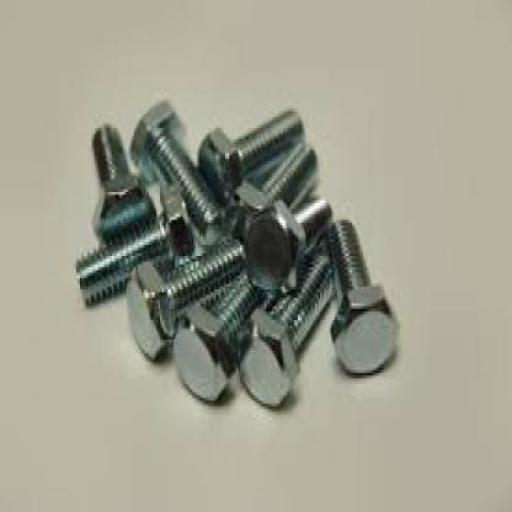metal: (236, 242, 328, 407), (73, 180, 193, 304), (124, 239, 242, 365), (128, 95, 229, 242), (171, 276, 272, 404), (325, 217, 397, 376), (197, 108, 301, 194), (240, 194, 330, 287), (89, 120, 157, 242), (231, 139, 317, 225)
